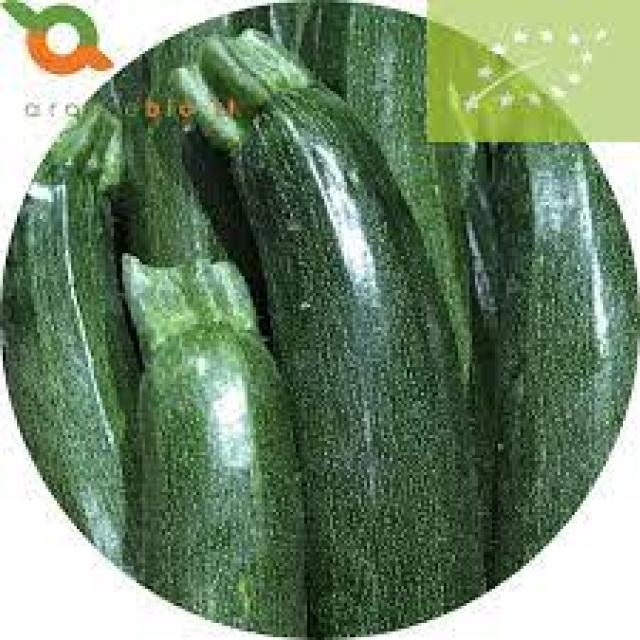Zucchini: (132, 278, 308, 596)
